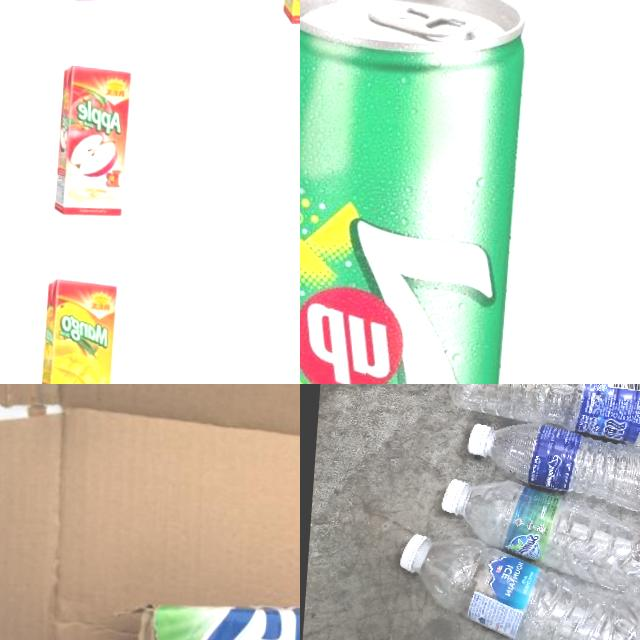aba de lata: (362, 0, 483, 42)
caixinha: (52, 58, 133, 220), (34, 278, 121, 384)
garrafa plástica: (408, 536, 640, 640), (454, 478, 640, 598), (482, 419, 640, 515), (442, 384, 640, 451)
lata: (300, 0, 532, 384)
papelão: (0, 384, 300, 640)
tampa plástica: (400, 533, 428, 573), (440, 478, 467, 514), (468, 423, 488, 456)
